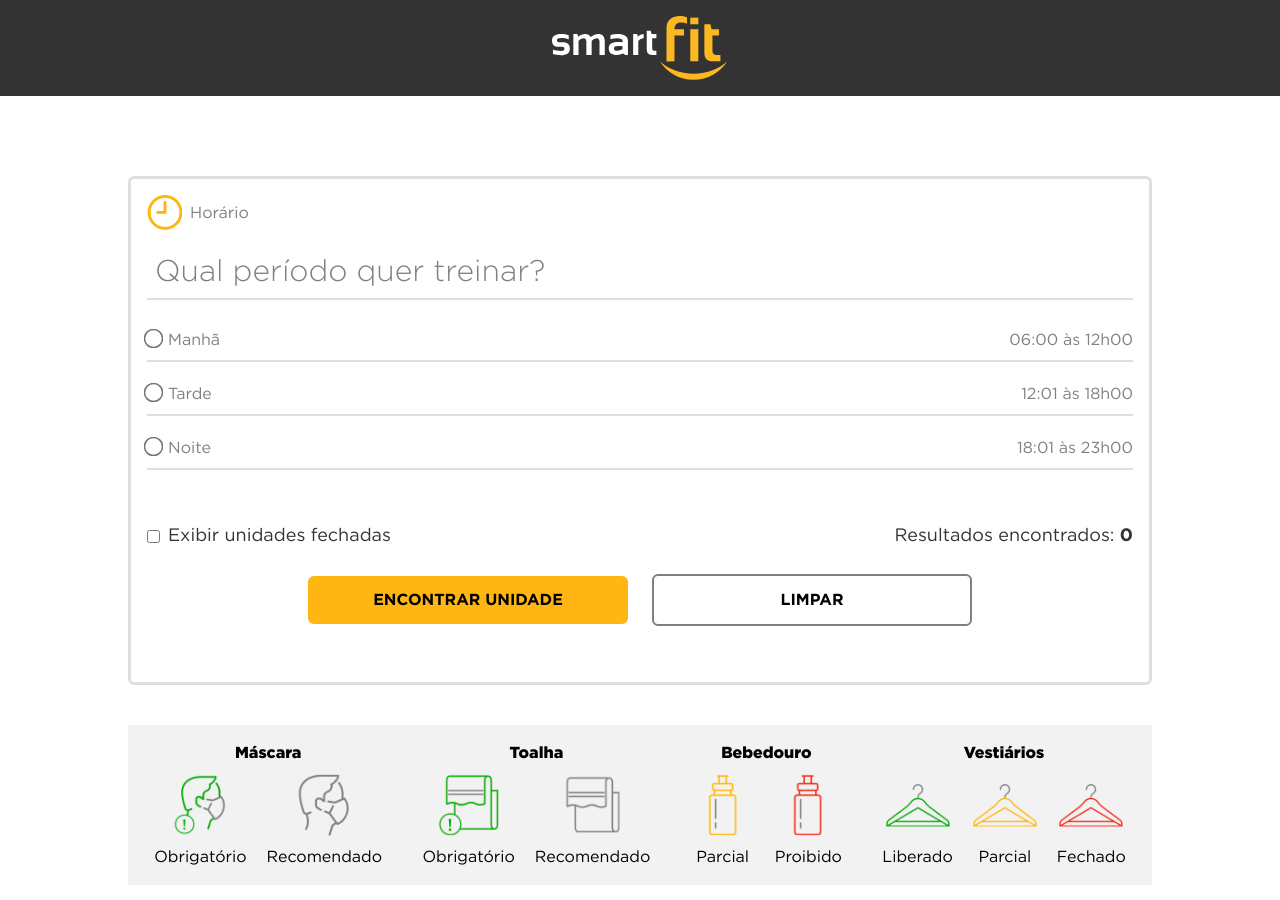
Scenario: Form Component › should not render card if show closed isn't checked
Click the radio button labelled "Manhã" at point(154, 339), box [144,329,163,348]
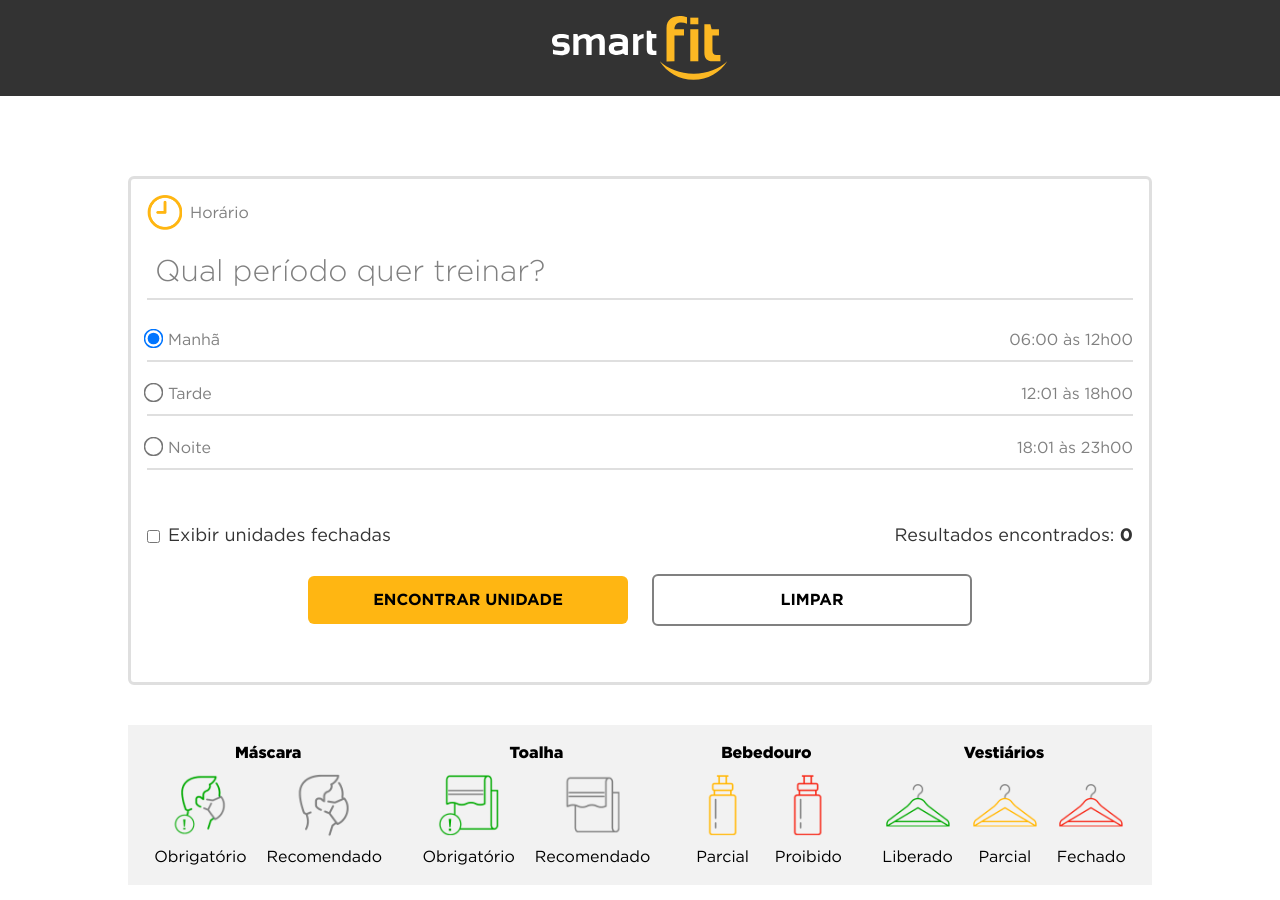
Click the button "Encontrar unidade" at point(468, 600), box [308,576,628,624]
(page scrolled)
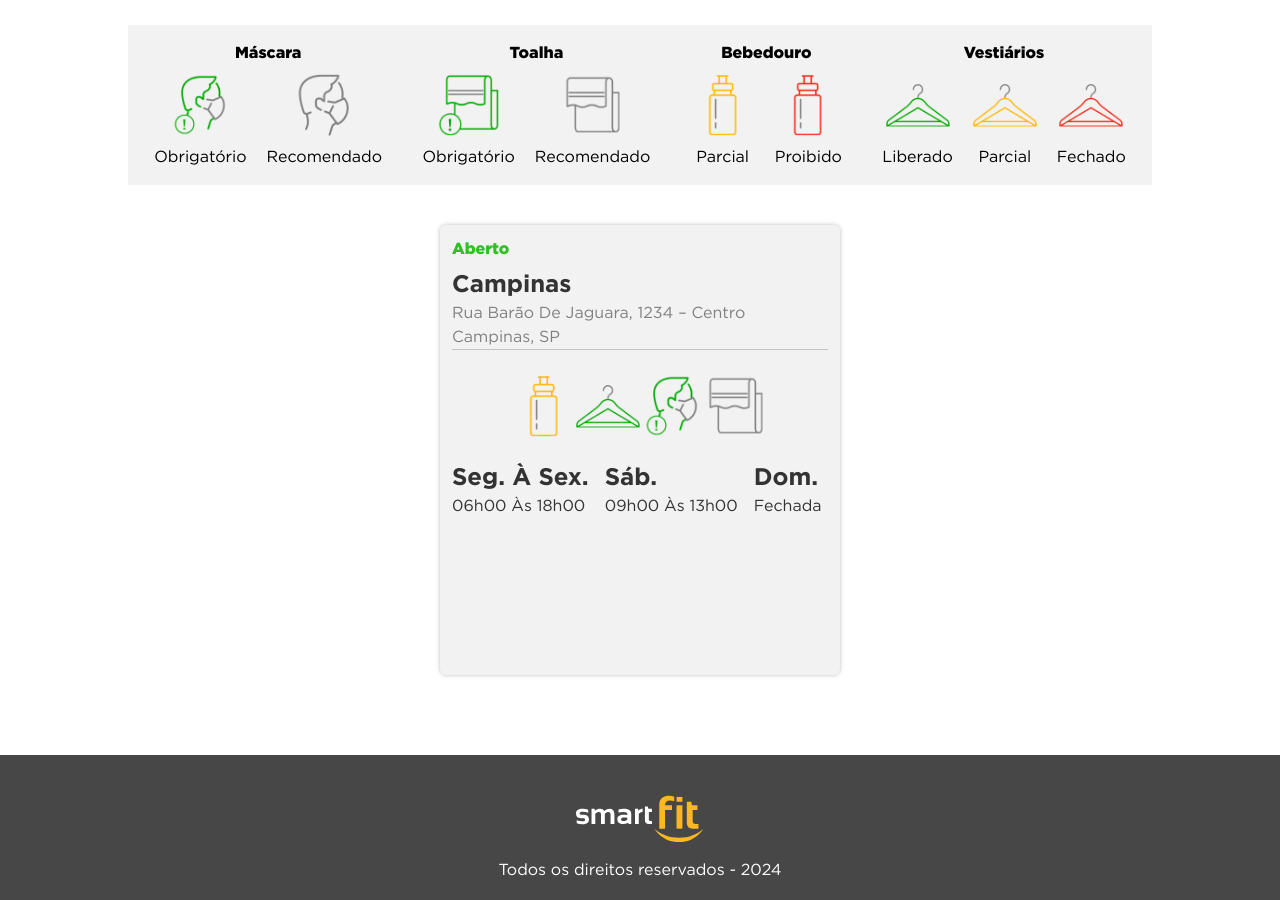
Expected: the list is shown, [440,225,840,675]
